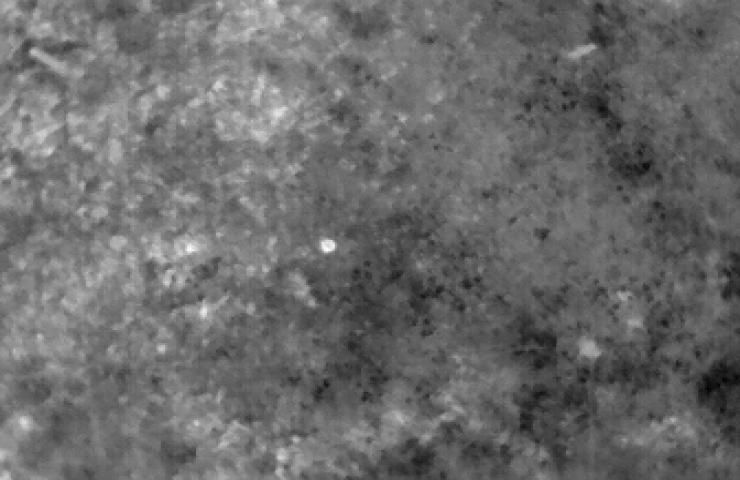landmines: (318, 237, 342, 254)
